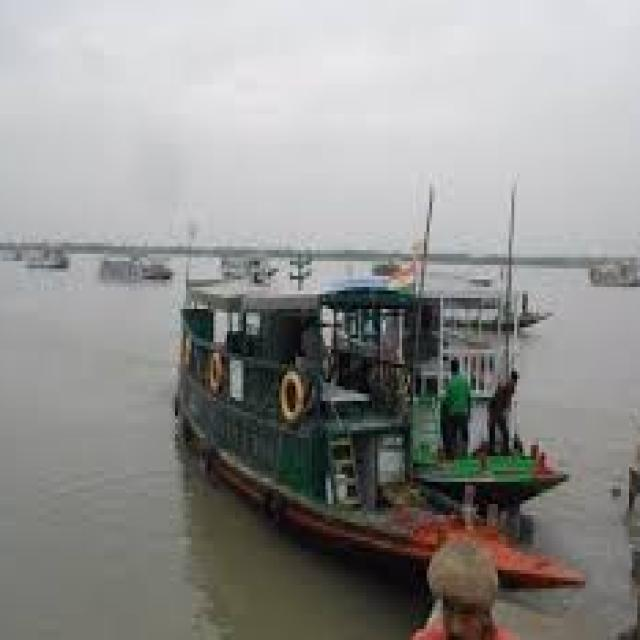houseboat: (125, 194, 586, 607)
